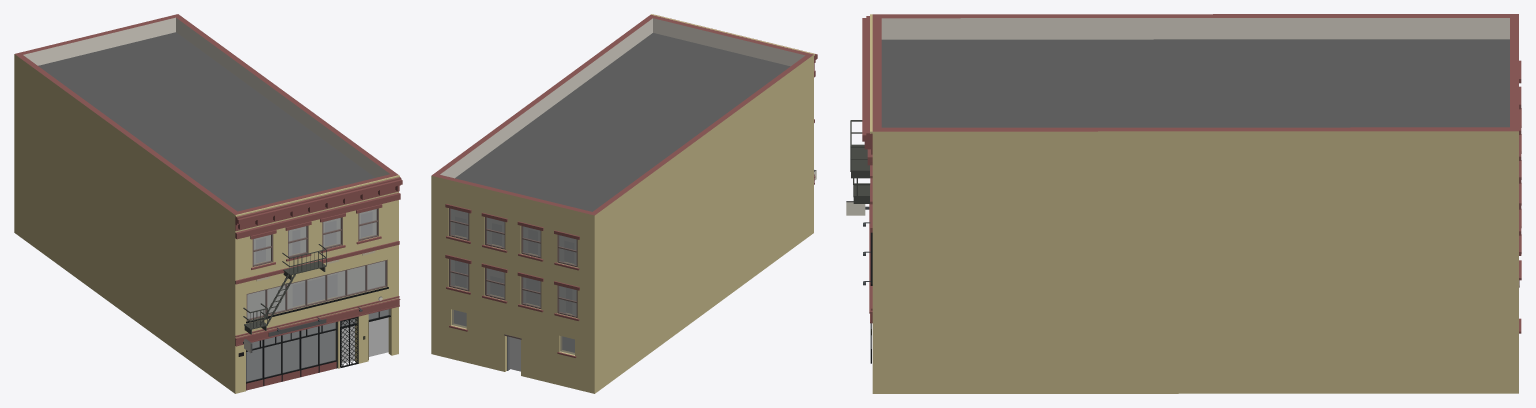
The model's file is exterior.glb.
3 views of the same model, side by side, from view 1: azimuth 30°, elevation 25°; view 2: azimuth 150°, elevation 25°; view 3: azimuth 270°, elevation 25° (orthographic). The views are drawn at different scales.
Visible parts, largest first — view 1: shell, roof, glazing, trim, shadow-proxy, frames, storefront, r5-front-detail, fire-escape-drop, relief-1; view 2: shell, roof, glazing, shadow-proxy, trim, frames; view 3: shell, roof, trim, fire-escape-drop.
Part boxes in pixels (x1,y1,x2,y2): shell: (14, 14, 398, 393); roof: (38, 32, 374, 211); glazing: (246, 209, 390, 381); trim: (235, 177, 402, 346); shadow-proxy: (246, 212, 388, 381); frames: (246, 208, 387, 320); storefront: (246, 311, 390, 390); r5-front-detail: (243, 303, 358, 367); fire-escape-drop: (259, 244, 326, 324); relief-1: (235, 175, 399, 356); shell: (431, 14, 813, 393); roof: (455, 33, 790, 211); glazing: (451, 209, 576, 354); shadow-proxy: (454, 217, 574, 371); trim: (445, 15, 817, 357); frames: (449, 208, 577, 317); shell: (872, 14, 1518, 393); roof: (881, 39, 1509, 127); trim: (862, 16, 1521, 333); fire-escape-drop: (850, 120, 869, 198).
Size of the model in its own units: 10.36 by 10.77 by 25.11.
